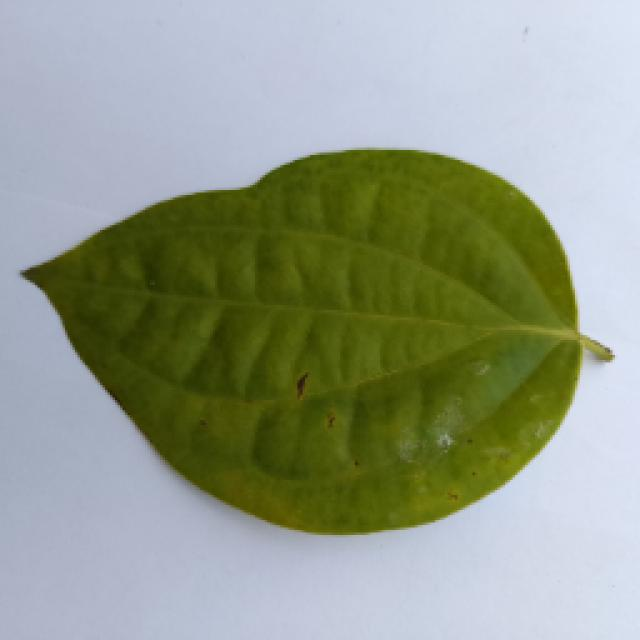slow-decline: (12, 142, 612, 538)
